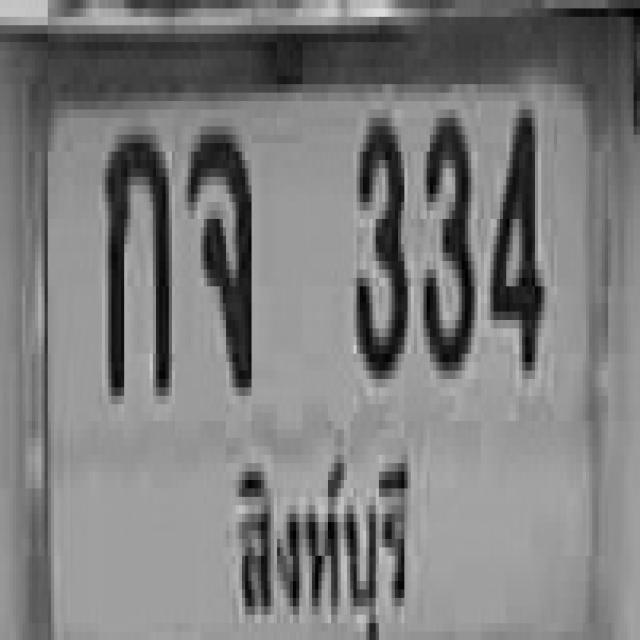10GorGai: (102, 126, 169, 388)
17ChorChan: (185, 126, 248, 388)
3: (354, 110, 404, 370), (421, 110, 472, 362)
4: (487, 101, 541, 362)
SingBuri: (214, 428, 418, 640)
